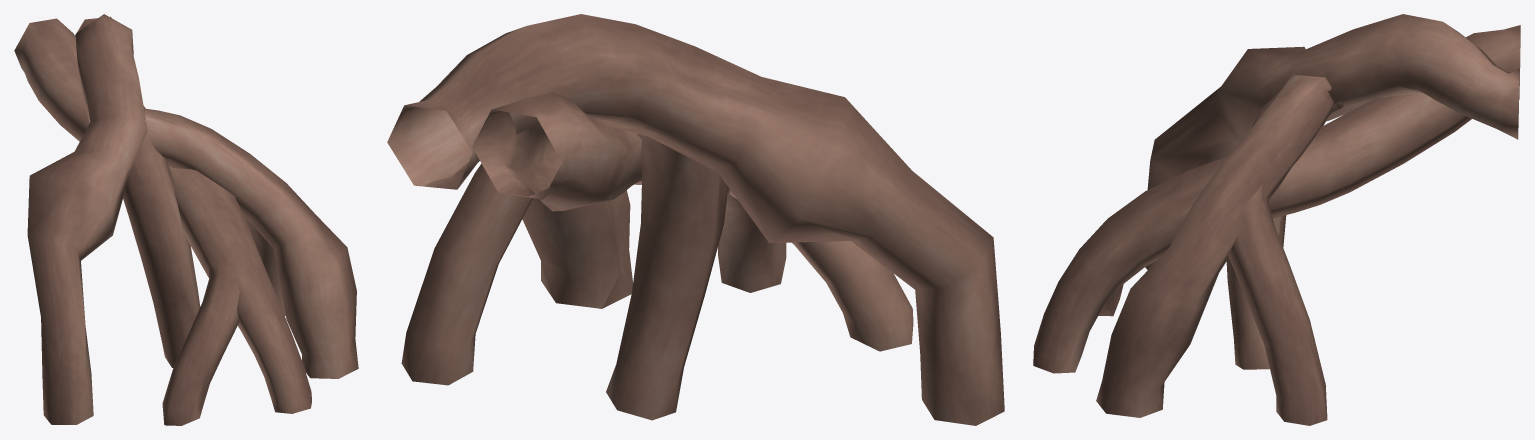
File: Root fences corner.fbx
3 renders of one model, left to right at view 1: azimuth 30°, elevation 25°; view 2: azimuth 150°, elevation 25°; view 3: azimuth 270°, elevation 25°, orthographic. The views are drawn at different scales.
Visible parts, largest first — view 1: SmallRoot Corner; view 2: SmallRoot Corner; view 3: SmallRoot Corner.
Boxes of the visible parts, bbox=[...] form: SmallRoot Corner: bbox=[14, 14, 358, 425]; SmallRoot Corner: bbox=[387, 14, 1004, 425]; SmallRoot Corner: bbox=[1033, 14, 1520, 425].
Bounding box in the file's own units: 215 × 198 × 255.
